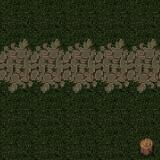Obstacle: (129, 130, 160, 160)
